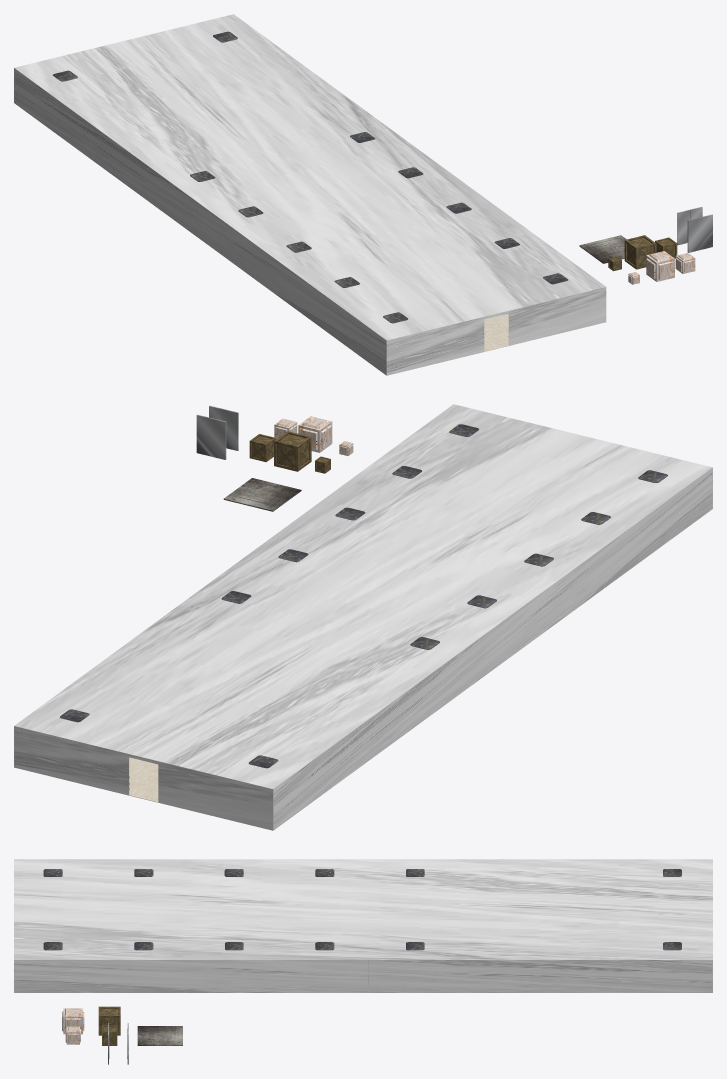
File: Fase 4 (Consertada Final).fbx
The picture shows the model from 3 angles, top to bottom: view 1: azimuth 30°, elevation 25°; view 2: azimuth 150°, elevation 25°; view 3: azimuth 270°, elevation 25°; orthographic projection. The views are drawn at different scales.
Visible parts, largest first — view 1: Fase_4, Porta_1, Caixa_Madeira_Grande, PLataforma, Caixa_Mármore_Grande; view 2: Fase_4, PLataforma, Caixa_Madeira_Grande, Porta_2, Caixa_Mármore_Grande, Porta_1; view 3: Fase_4, PLataforma, Caixa_Madeira_Grande, Caixa_Mármore_Grande.
Part boxes in pixels (x1,y1,x2,y2): Fase_4: (14, 14, 606, 375); Porta_1: (687, 214, 712, 252); Caixa_Madeira_Grande: (624, 235, 656, 269); PLataforma: (579, 235, 626, 263); Caixa_Mármore_Grande: (646, 251, 674, 281); Fase_4: (14, 404, 712, 830); PLataforma: (223, 478, 301, 511); Caixa_Madeira_Grande: (274, 431, 311, 471); Porta_2: (196, 414, 226, 459); Caixa_Mármore_Grande: (298, 416, 332, 452); Porta_1: (209, 405, 238, 450); Fase_4: (14, 859, 712, 992); PLataforma: (137, 1026, 182, 1045); Caixa_Madeira_Grande: (98, 1006, 120, 1035); Caixa_Mármore_Grande: (62, 1008, 84, 1034).
Size of the model in its own units: 787 by 82.59 by 1350.
Materials: 9 (9 with a texture image).
